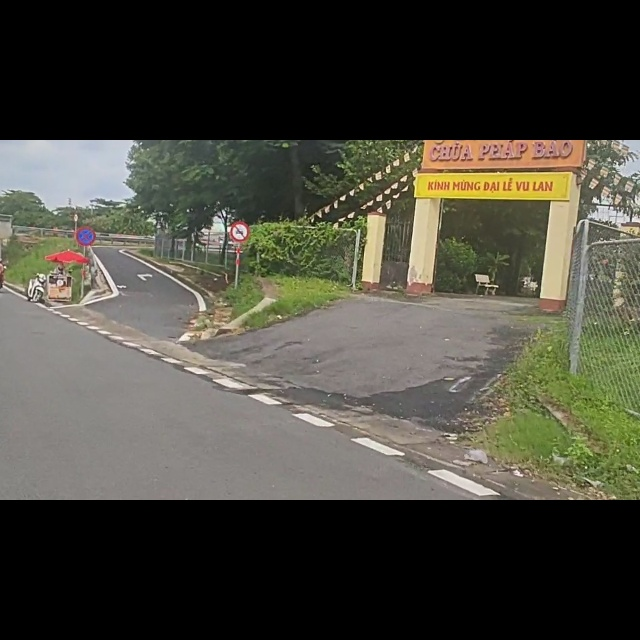bien_cam: (230, 145, 251, 184), (75, 153, 96, 190)
